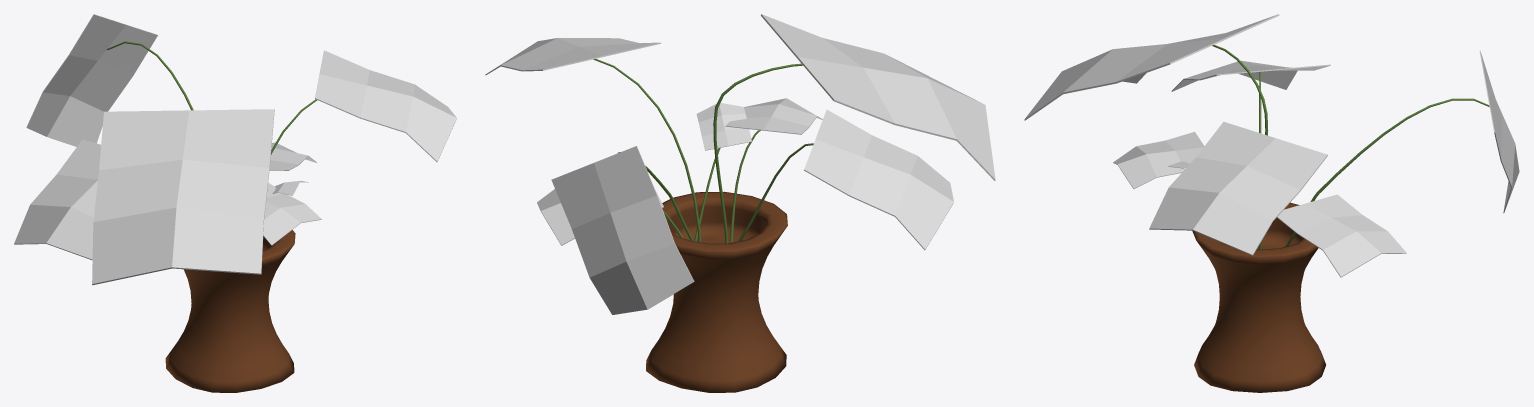
The model's file is Biblioteca_Plantas_NoAnim_v1.fbx.
3 views of the same model, side by side, from view 1: azimuth 30°, elevation 25°; view 2: azimuth 150°, elevation 25°; view 3: azimuth 270°, elevation 25° (orthographic). The views are drawn at different scales.
Visible parts, largest first — view 1: Monstera pre.002; view 2: Monstera pre.002; view 3: Monstera pre.002.
Part boxes in pixels (<box>): Monstera pre.002: <box>14,14,456,392</box>; Monstera pre.002: <box>485,14,995,392</box>; Monstera pre.002: <box>1024,14,1519,392</box>.
Size of the model in its own units: 6.69 by 4.41 by 6.51.
